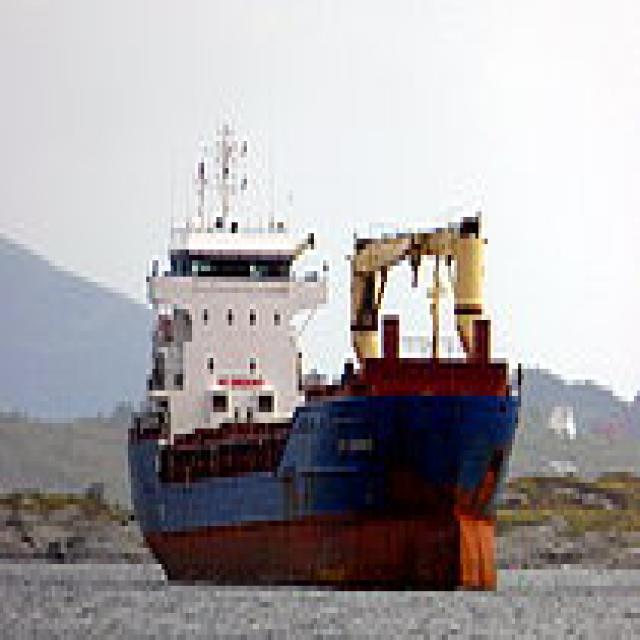Cargo: (119, 109, 524, 591)
